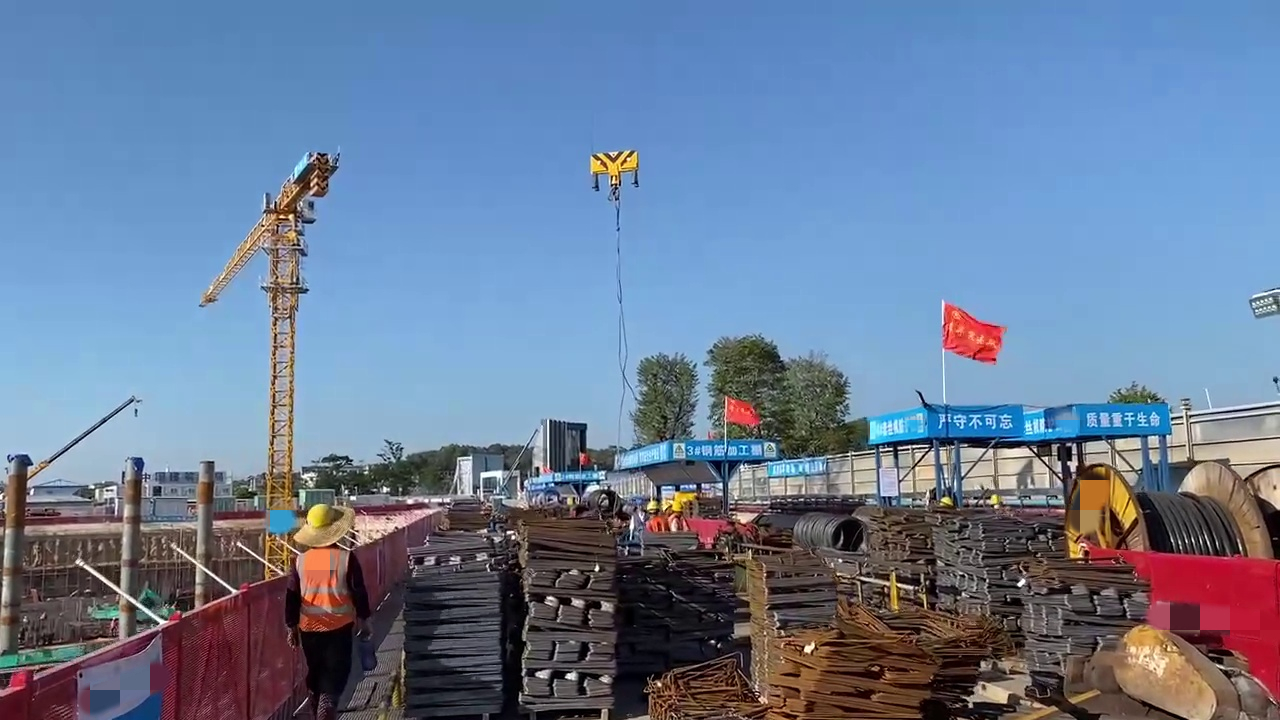fence: (3, 571, 286, 719), (361, 529, 408, 620)
helmet: (304, 503, 338, 529)
hook: (587, 150, 642, 194)
person: (285, 503, 363, 720), (643, 501, 665, 530), (667, 502, 689, 531)
rebar: (504, 501, 622, 720), (410, 531, 512, 720), (785, 619, 928, 720), (879, 585, 985, 695), (927, 500, 1008, 622), (1021, 554, 1084, 703), (867, 505, 938, 593), (656, 653, 748, 720), (751, 560, 839, 621)
slogan: (1074, 402, 1169, 433), (930, 407, 1026, 437)
vest: (297, 546, 354, 636)
